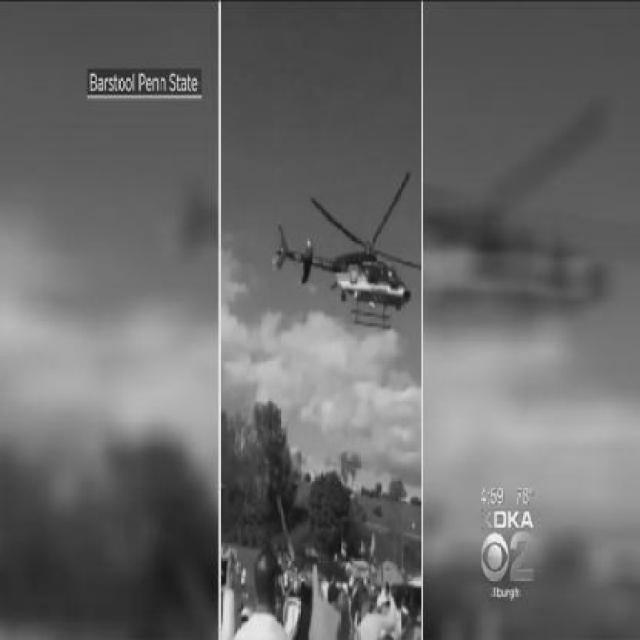helikopter: (264, 160, 419, 345)
